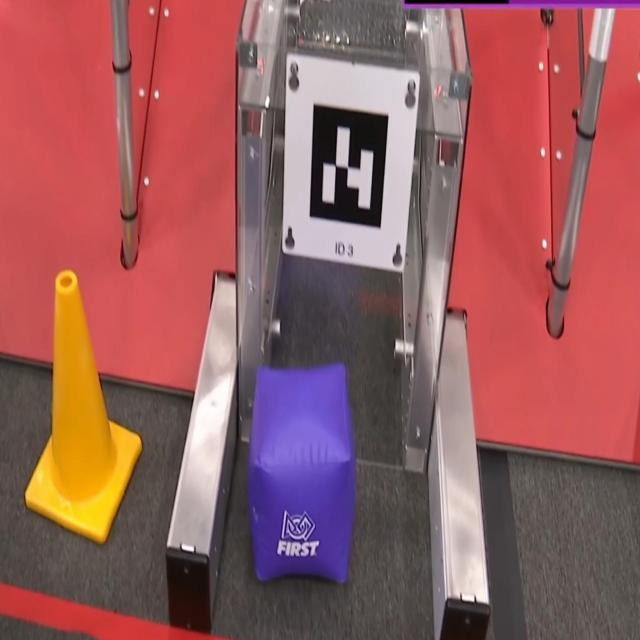frc_cone: (21, 271, 141, 544)
frc_cube: (252, 361, 356, 587)
